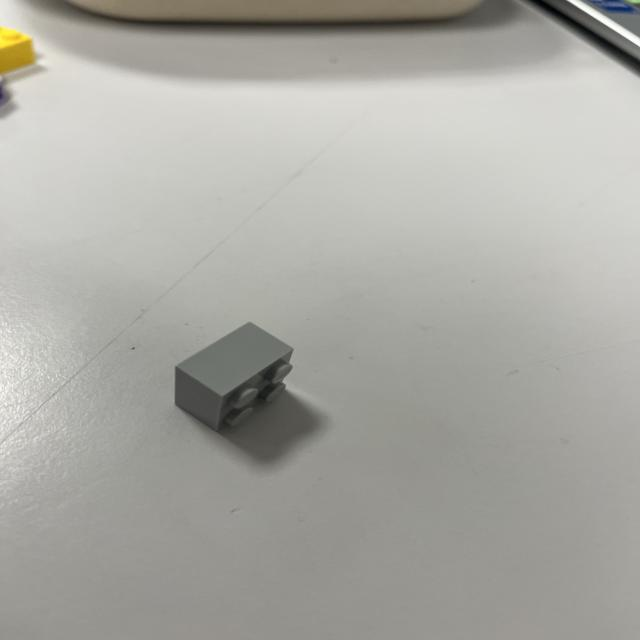C2x2x1: (174, 324, 294, 429)
